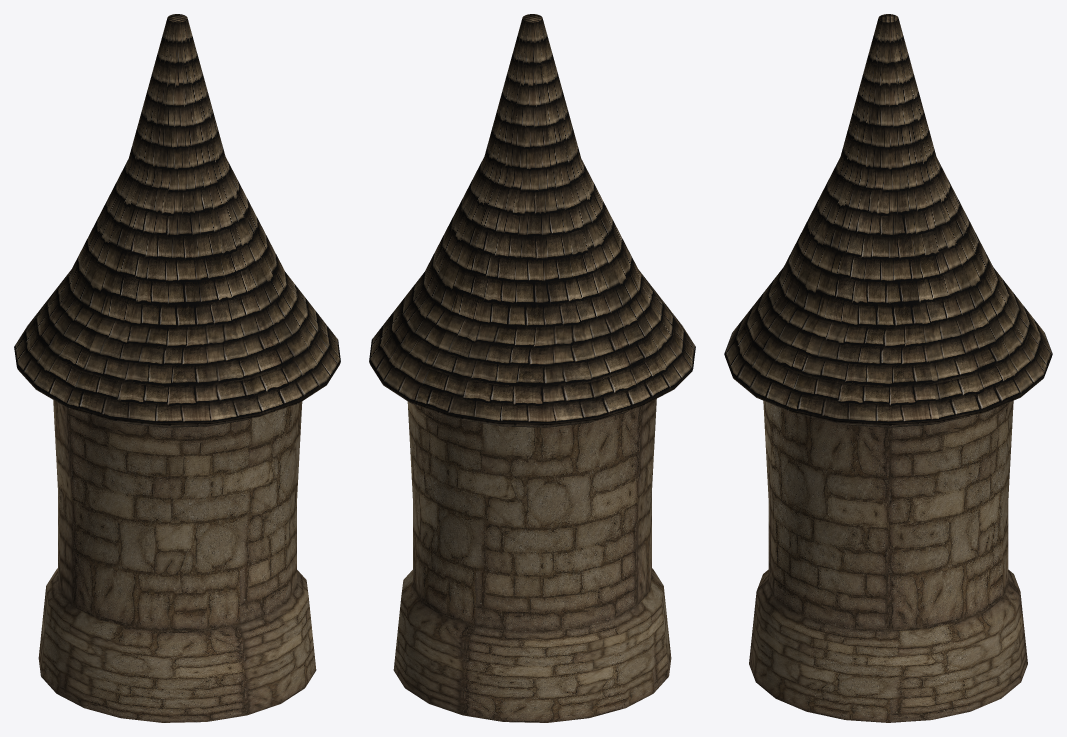
The model's file is Tower_02.fbx.
3 renders of one model, left to right at view 1: azimuth 30°, elevation 25°; view 2: azimuth 150°, elevation 25°; view 3: azimuth 270°, elevation 25°, orthographic.
Visible parts, largest first — view 1: Tower_02; view 2: Tower_02; view 3: Tower_02.
Part boxes in pixels (box(x1,y1,x2,y2)): Tower_02: box(14, 14, 340, 722); Tower_02: box(369, 14, 695, 722); Tower_02: box(724, 14, 1052, 722).
Size of the model in its own units: 7.69 by 16.68 by 7.69.
